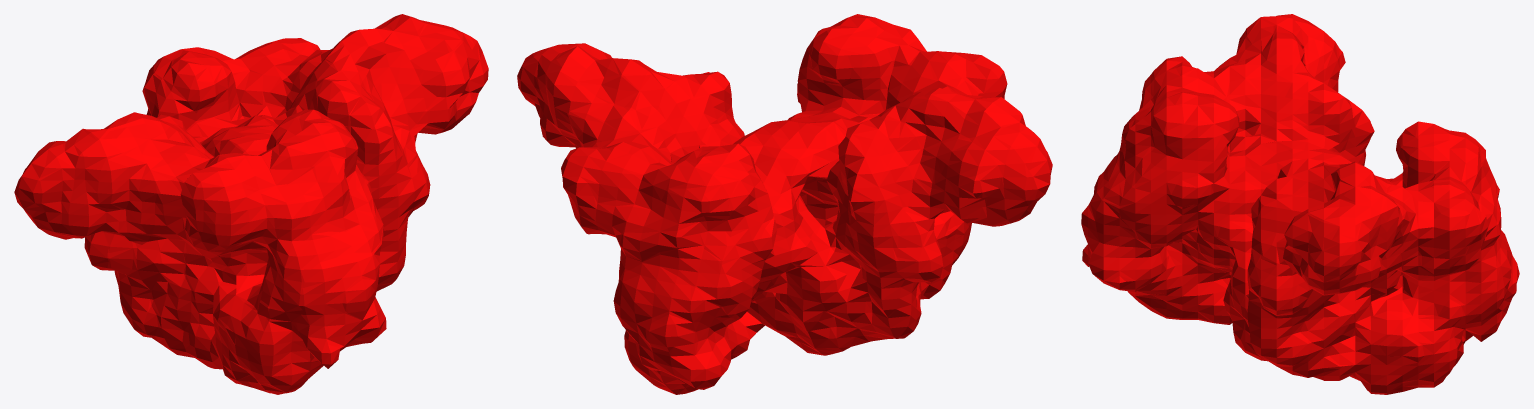
File: mfd_coarse.dae
3 renders of one model, left to right at view 1: azimuth 30°, elevation 25°; view 2: azimuth 150°, elevation 25°; view 3: azimuth 270°, elevation 25°, orthographic. The views are drawn at different scales.
Parts seen in each view (by area): view 1: mfd; view 2: mfd; view 3: mfd.
Boxes of the visible parts, x1,y1,x2,y2 form: mfd: [14, 14, 488, 394]; mfd: [517, 14, 1052, 394]; mfd: [1081, 14, 1519, 394].
Size of the model in its own units: 169 by 95.32 by 138.
